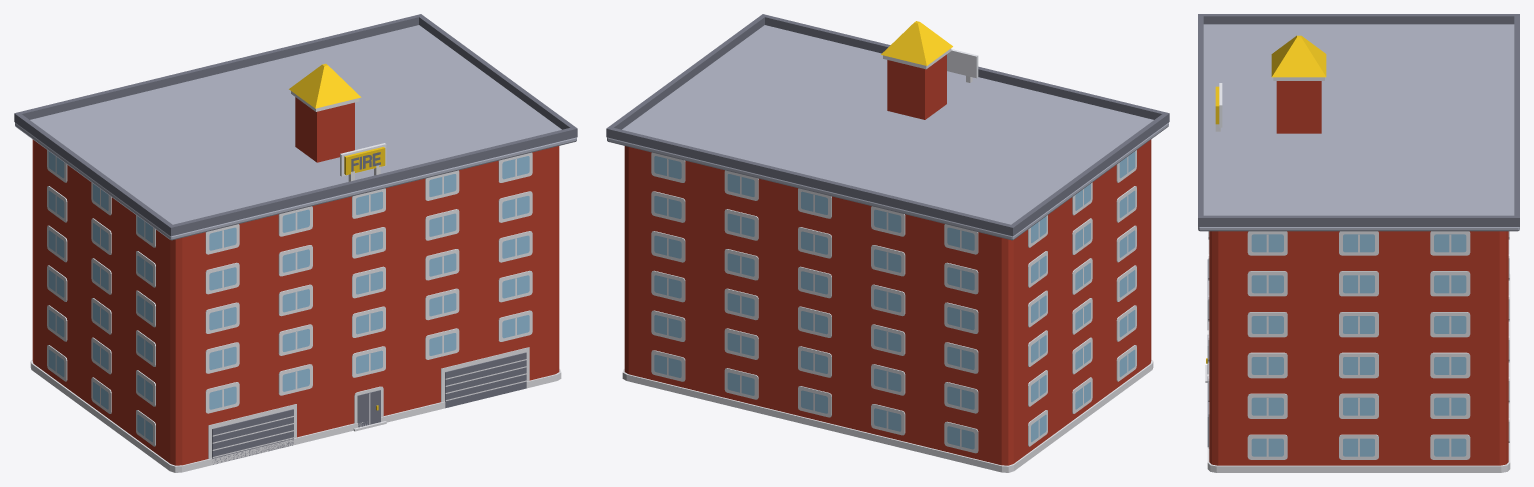
File: fire-station-3x2-6f.glb
3 views of the same model, side by side, from view 1: azimuth 30°, elevation 25°; view 2: azimuth 150°, elevation 25°; view 3: azimuth 270°, elevation 25° (orthographic). The views are drawn at different scales.
Visible parts, largest first — view 1: fire-station-3x2-6f; view 2: fire-station-3x2-6f; view 3: fire-station-3x2-6f.
Boxes of the visible parts, box(x1,y1,x2,y2) form: fire-station-3x2-6f: box(14, 14, 577, 472); fire-station-3x2-6f: box(606, 14, 1169, 472); fire-station-3x2-6f: box(1198, 14, 1519, 472).
Size of the model in its own units: 3 by 2.32 by 2.
Materials: 1 (1 with a texture image).
